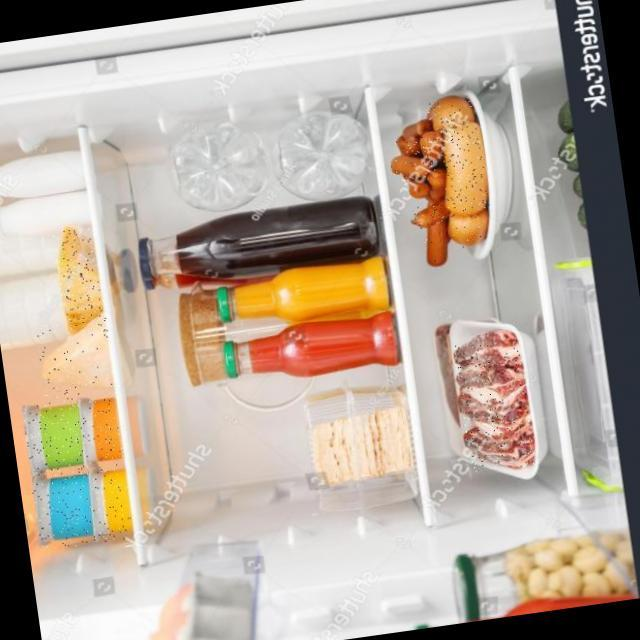Carne vacuno: (454, 335, 536, 473)
Queso: (35, 311, 116, 398), (52, 225, 104, 325)
Salchichas: (437, 120, 491, 216), (425, 95, 474, 128), (390, 151, 437, 184), (449, 211, 489, 249), (420, 222, 448, 269), (413, 200, 447, 228), (418, 130, 440, 161), (402, 120, 433, 140), (396, 134, 421, 157)
Yogur: (21, 396, 88, 476), (30, 467, 94, 550), (84, 461, 133, 543), (76, 392, 124, 465)
